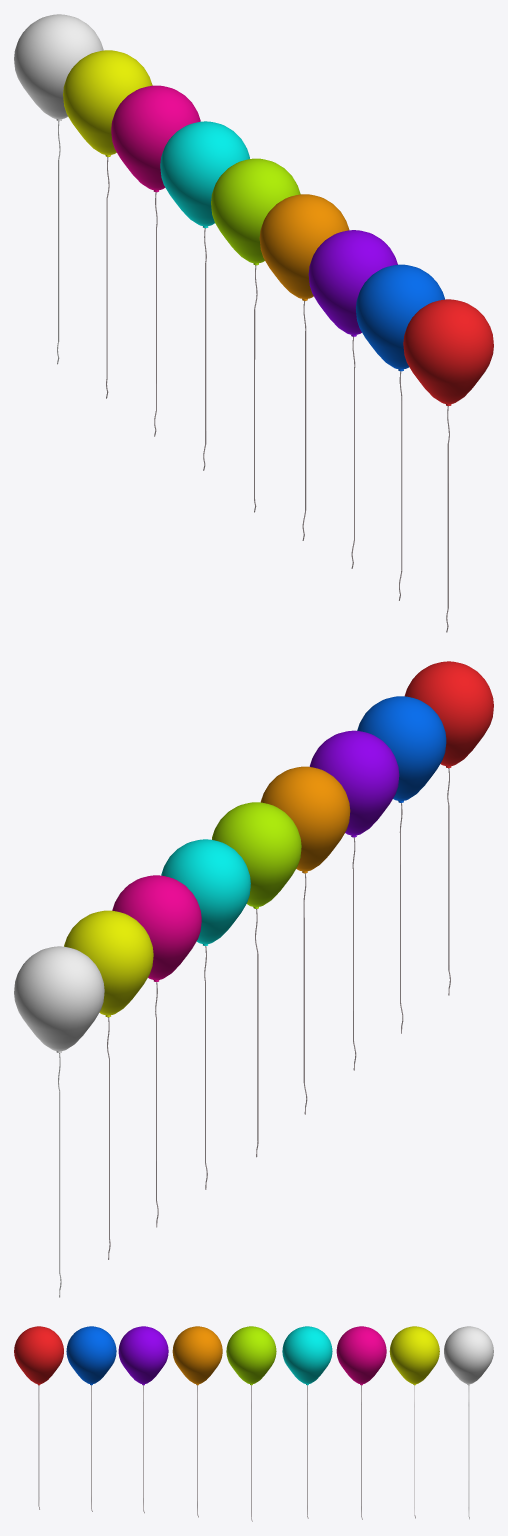
Rendered from balon.fbx.
3 renders of one model, top to bottom at view 1: azimuth 30°, elevation 25°; view 2: azimuth 150°, elevation 25°; view 3: azimuth 270°, elevation 25°, orthographic. The views are drawn at different scales.
Visible parts, largest first — view 1: Ballon.023, Ballon.003, Ballon.015, Ballon.004, Ballon.017, Ballon.022, Ballon.021, Ballon.001, Ballon; view 2: Ballon.015, Ballon.022, Ballon.004, Ballon.003, Ballon.023, Ballon.017, Ballon, Ballon.021, Ballon.001; view 3: Ballon.015, Ballon.023, Ballon.022, Ballon.003, Ballon.021, Ballon.004, Ballon.017, Ballon.001, Ballon.
Boxes of the visible parts, x1,y1,x2,y2 form: Ballon.023: (403, 299, 493, 632); Ballon.003: (160, 121, 249, 470); Ballon.015: (14, 14, 103, 364); Ballon.004: (259, 194, 349, 540); Ballon.017: (63, 50, 152, 398); Ballon.022: (211, 158, 300, 512); Ballon.021: (111, 85, 200, 436); Ballon.001: (356, 264, 445, 600); Ballon: (308, 230, 397, 568); Ballon.015: (14, 946, 104, 1297); Ballon.022: (212, 802, 301, 1157); Ballon.004: (260, 766, 350, 1114); Ballon.003: (161, 839, 250, 1189); Ballon.023: (404, 661, 493, 995); Ballon.017: (64, 910, 153, 1259); Ballon: (309, 730, 399, 1070); Ballon.021: (112, 875, 201, 1227); Ballon.001: (357, 696, 446, 1033); Ballon.015: (444, 1326, 493, 1519); Ballon.023: (14, 1326, 63, 1509); Ballon.022: (226, 1326, 276, 1521); Ballon.003: (282, 1326, 332, 1518); Ballon.021: (336, 1326, 386, 1519); Ballon.004: (172, 1326, 222, 1517); Ballon.017: (389, 1326, 439, 1518); Ballon.001: (66, 1326, 116, 1511); Ballon: (118, 1326, 168, 1513).
Bounding box in the file's own units: 200 × 850 × 1914.
